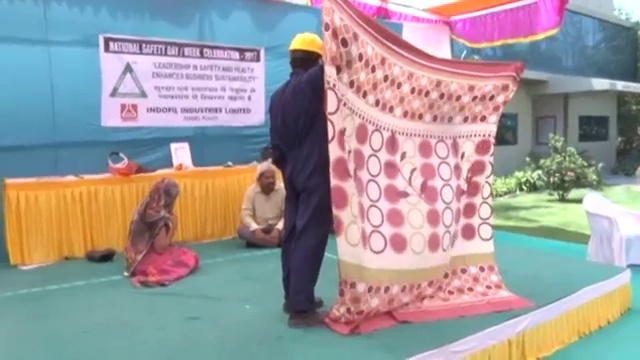helmet: (289, 30, 324, 57)
helmet_off: (256, 160, 279, 196), (154, 177, 180, 205)
helmet_on: (287, 30, 324, 73)
person: (267, 28, 336, 329), (127, 176, 193, 288), (234, 162, 285, 252)
